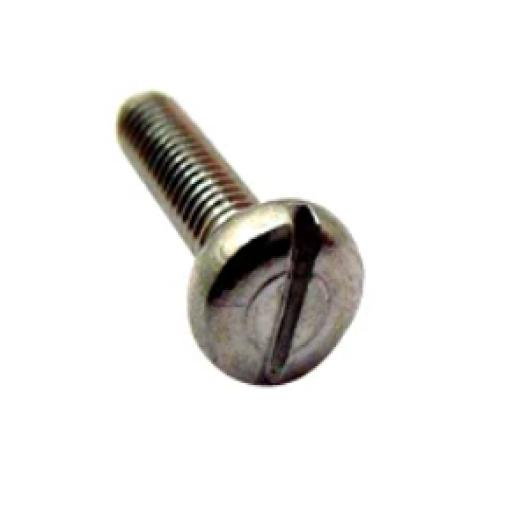Slotted: (186, 195, 359, 387)
